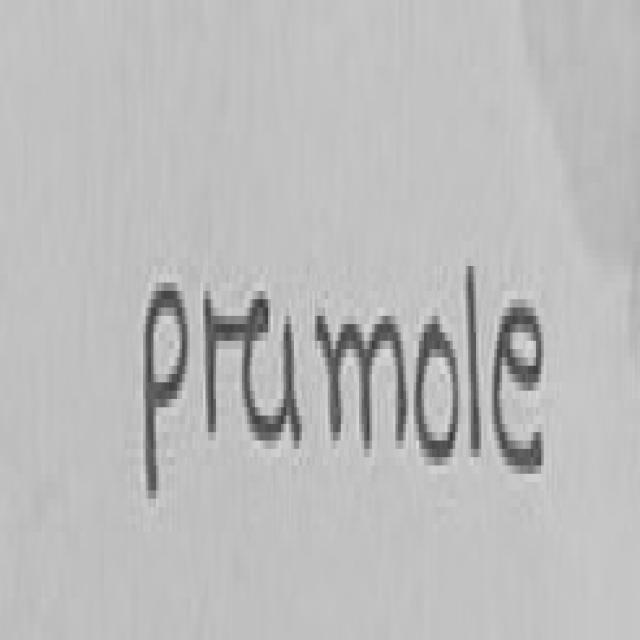P: (146, 291, 187, 499)
e: (494, 308, 544, 474)
i: (284, 324, 302, 449)
l: (468, 266, 481, 453)
m: (317, 316, 408, 445)
o: (416, 324, 460, 465)
r: (206, 299, 286, 441)
